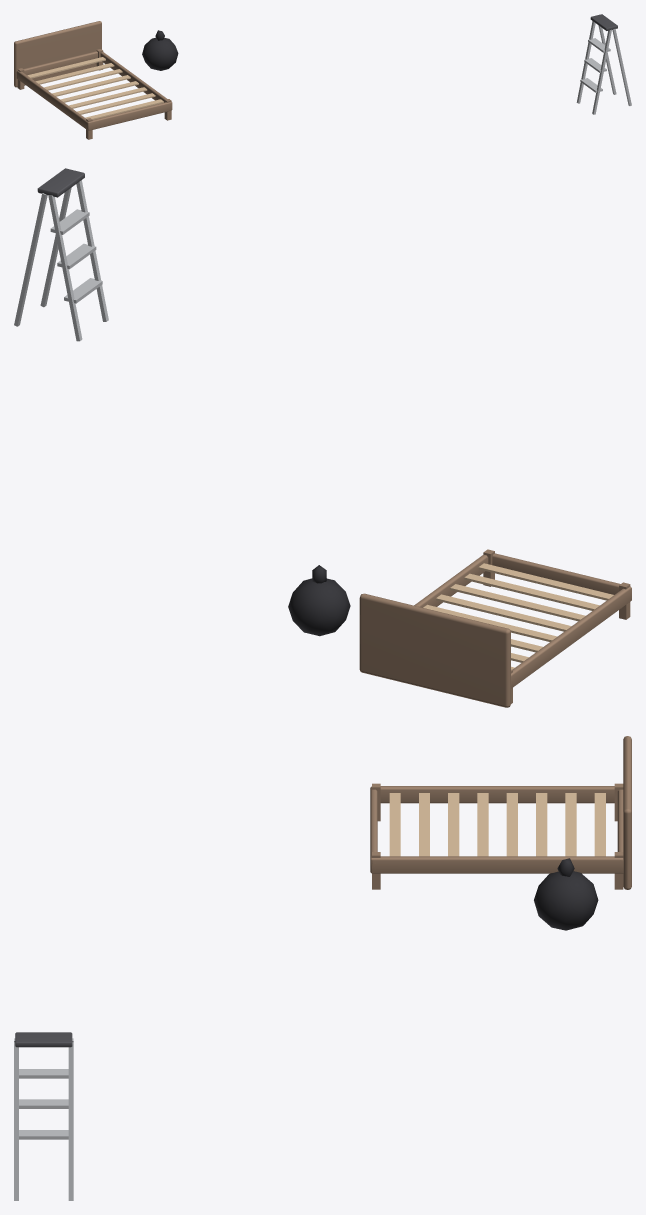
Rendered from einrichtung_freies_zimmer_leer_buehne.glb.
3 renders of one model, top to bottom at view 1: azimuth 30°, elevation 25°; view 2: azimuth 150°, elevation 25°; view 3: azimuth 270°, elevation 25°, orthographic. The views are drawn at different scales.
Parts seen in each view (by area): view 1: einrichtung_freies_zimmer_leer_buehne; view 2: einrichtung_freies_zimmer_leer_buehne; view 3: einrichtung_freies_zimmer_leer_buehne.
Part boxes in pixels (x1,y1,x2,y2): einrichtung_freies_zimmer_leer_buehne: (14, 14, 631, 139); einrichtung_freies_zimmer_leer_buehne: (14, 168, 631, 707); einrichtung_freies_zimmer_leer_buehne: (14, 736, 631, 1200).
Size of the model in its own units: 7.34 by 1.32 by 4.97.
